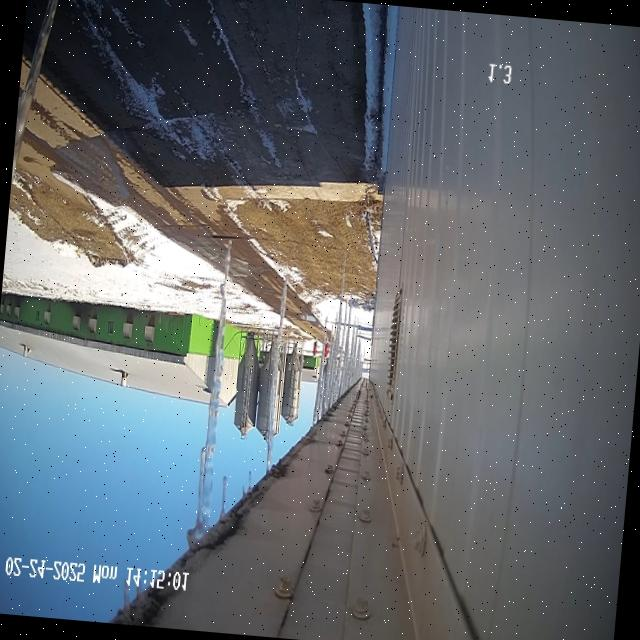Red uniform: (324, 340, 329, 360), (312, 340, 317, 356)
